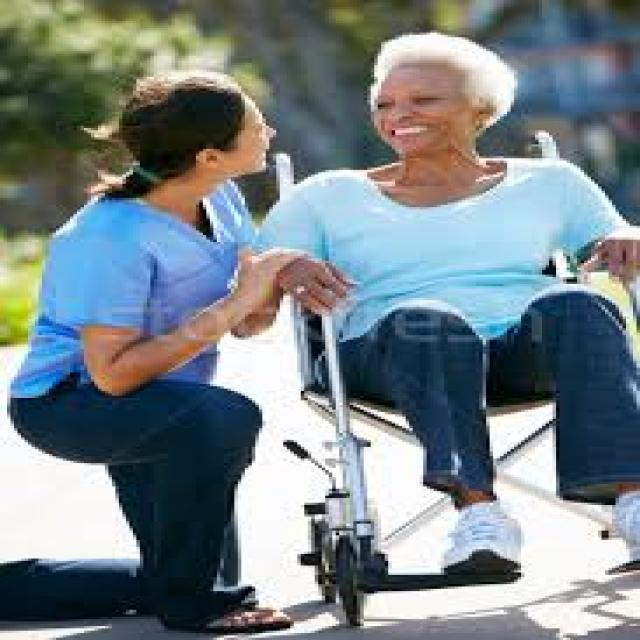wheelchairs: (252, 144, 636, 622)
